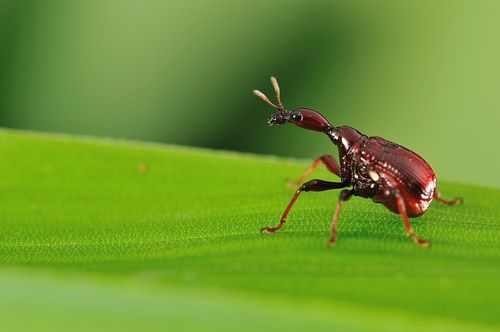Curculionidae: (252, 76, 463, 250)
